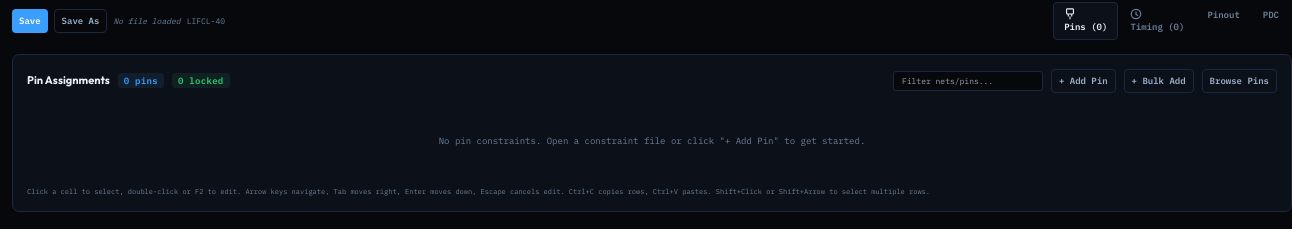
Test: ConstraintEditor › shows add pin form when '+ Add Pin' is clicked
Step 1. Click the button "+ Add Pin" → {"x": 1083, "y": 80}, box [1051, 68, 1116, 92]
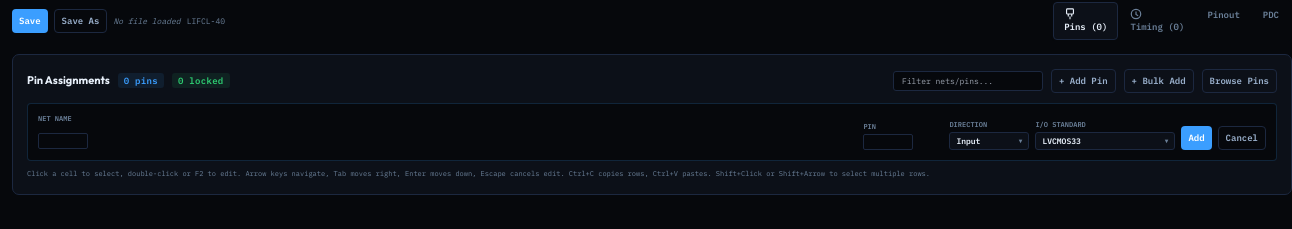
Expected: the text "PIN" is shown, [863, 122, 876, 130]
Expected: the text "NET NAME" is shown, [38, 114, 72, 122]
